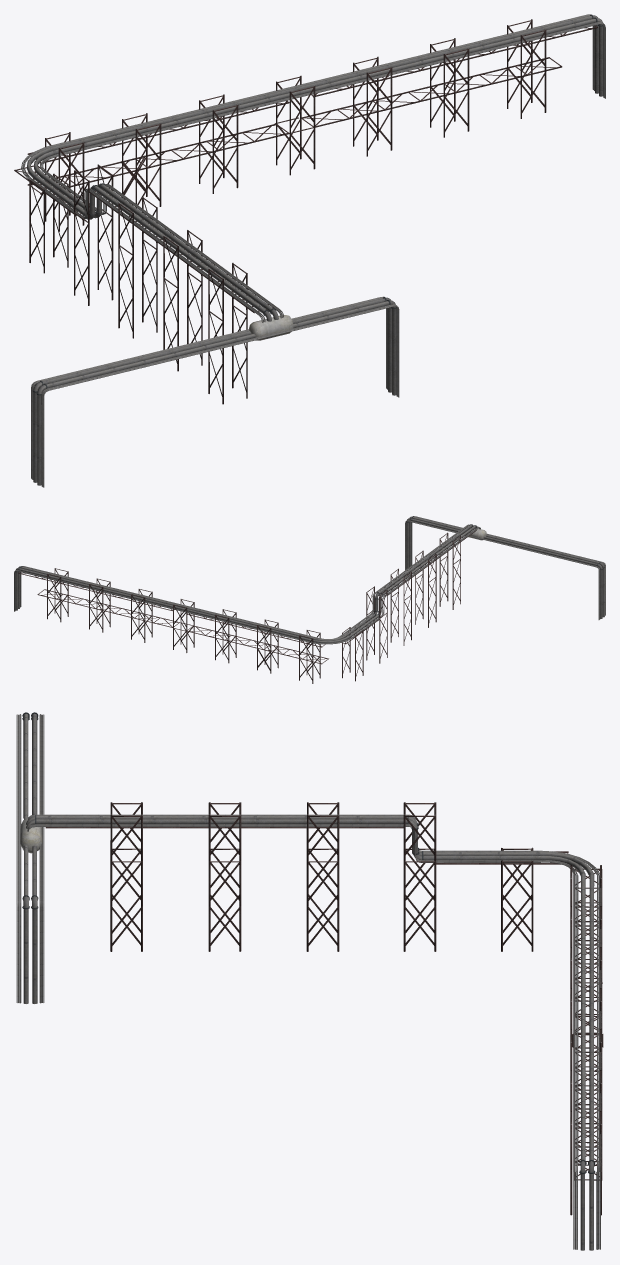
Rendered from pipe_01.FBX.
3 views of the same model, one above another, from view 1: azimuth 30°, elevation 25°; view 2: azimuth 150°, elevation 25°; view 3: azimuth 270°, elevation 25° (orthographic). The views are drawn at different scales.
Visible parts, largest first — view 1: Object41243; view 2: Object41243; view 3: Object41243.
Boxes of the visible parts, x1,y1,x2,y2 form: Object41243: (14, 14, 605, 487); Object41243: (14, 516, 605, 683); Object41243: (16, 712, 603, 1250).
Bounding box in the file's own units: 9617 × 5450 × 1398.
Materials: 3 (3 with a texture image).
